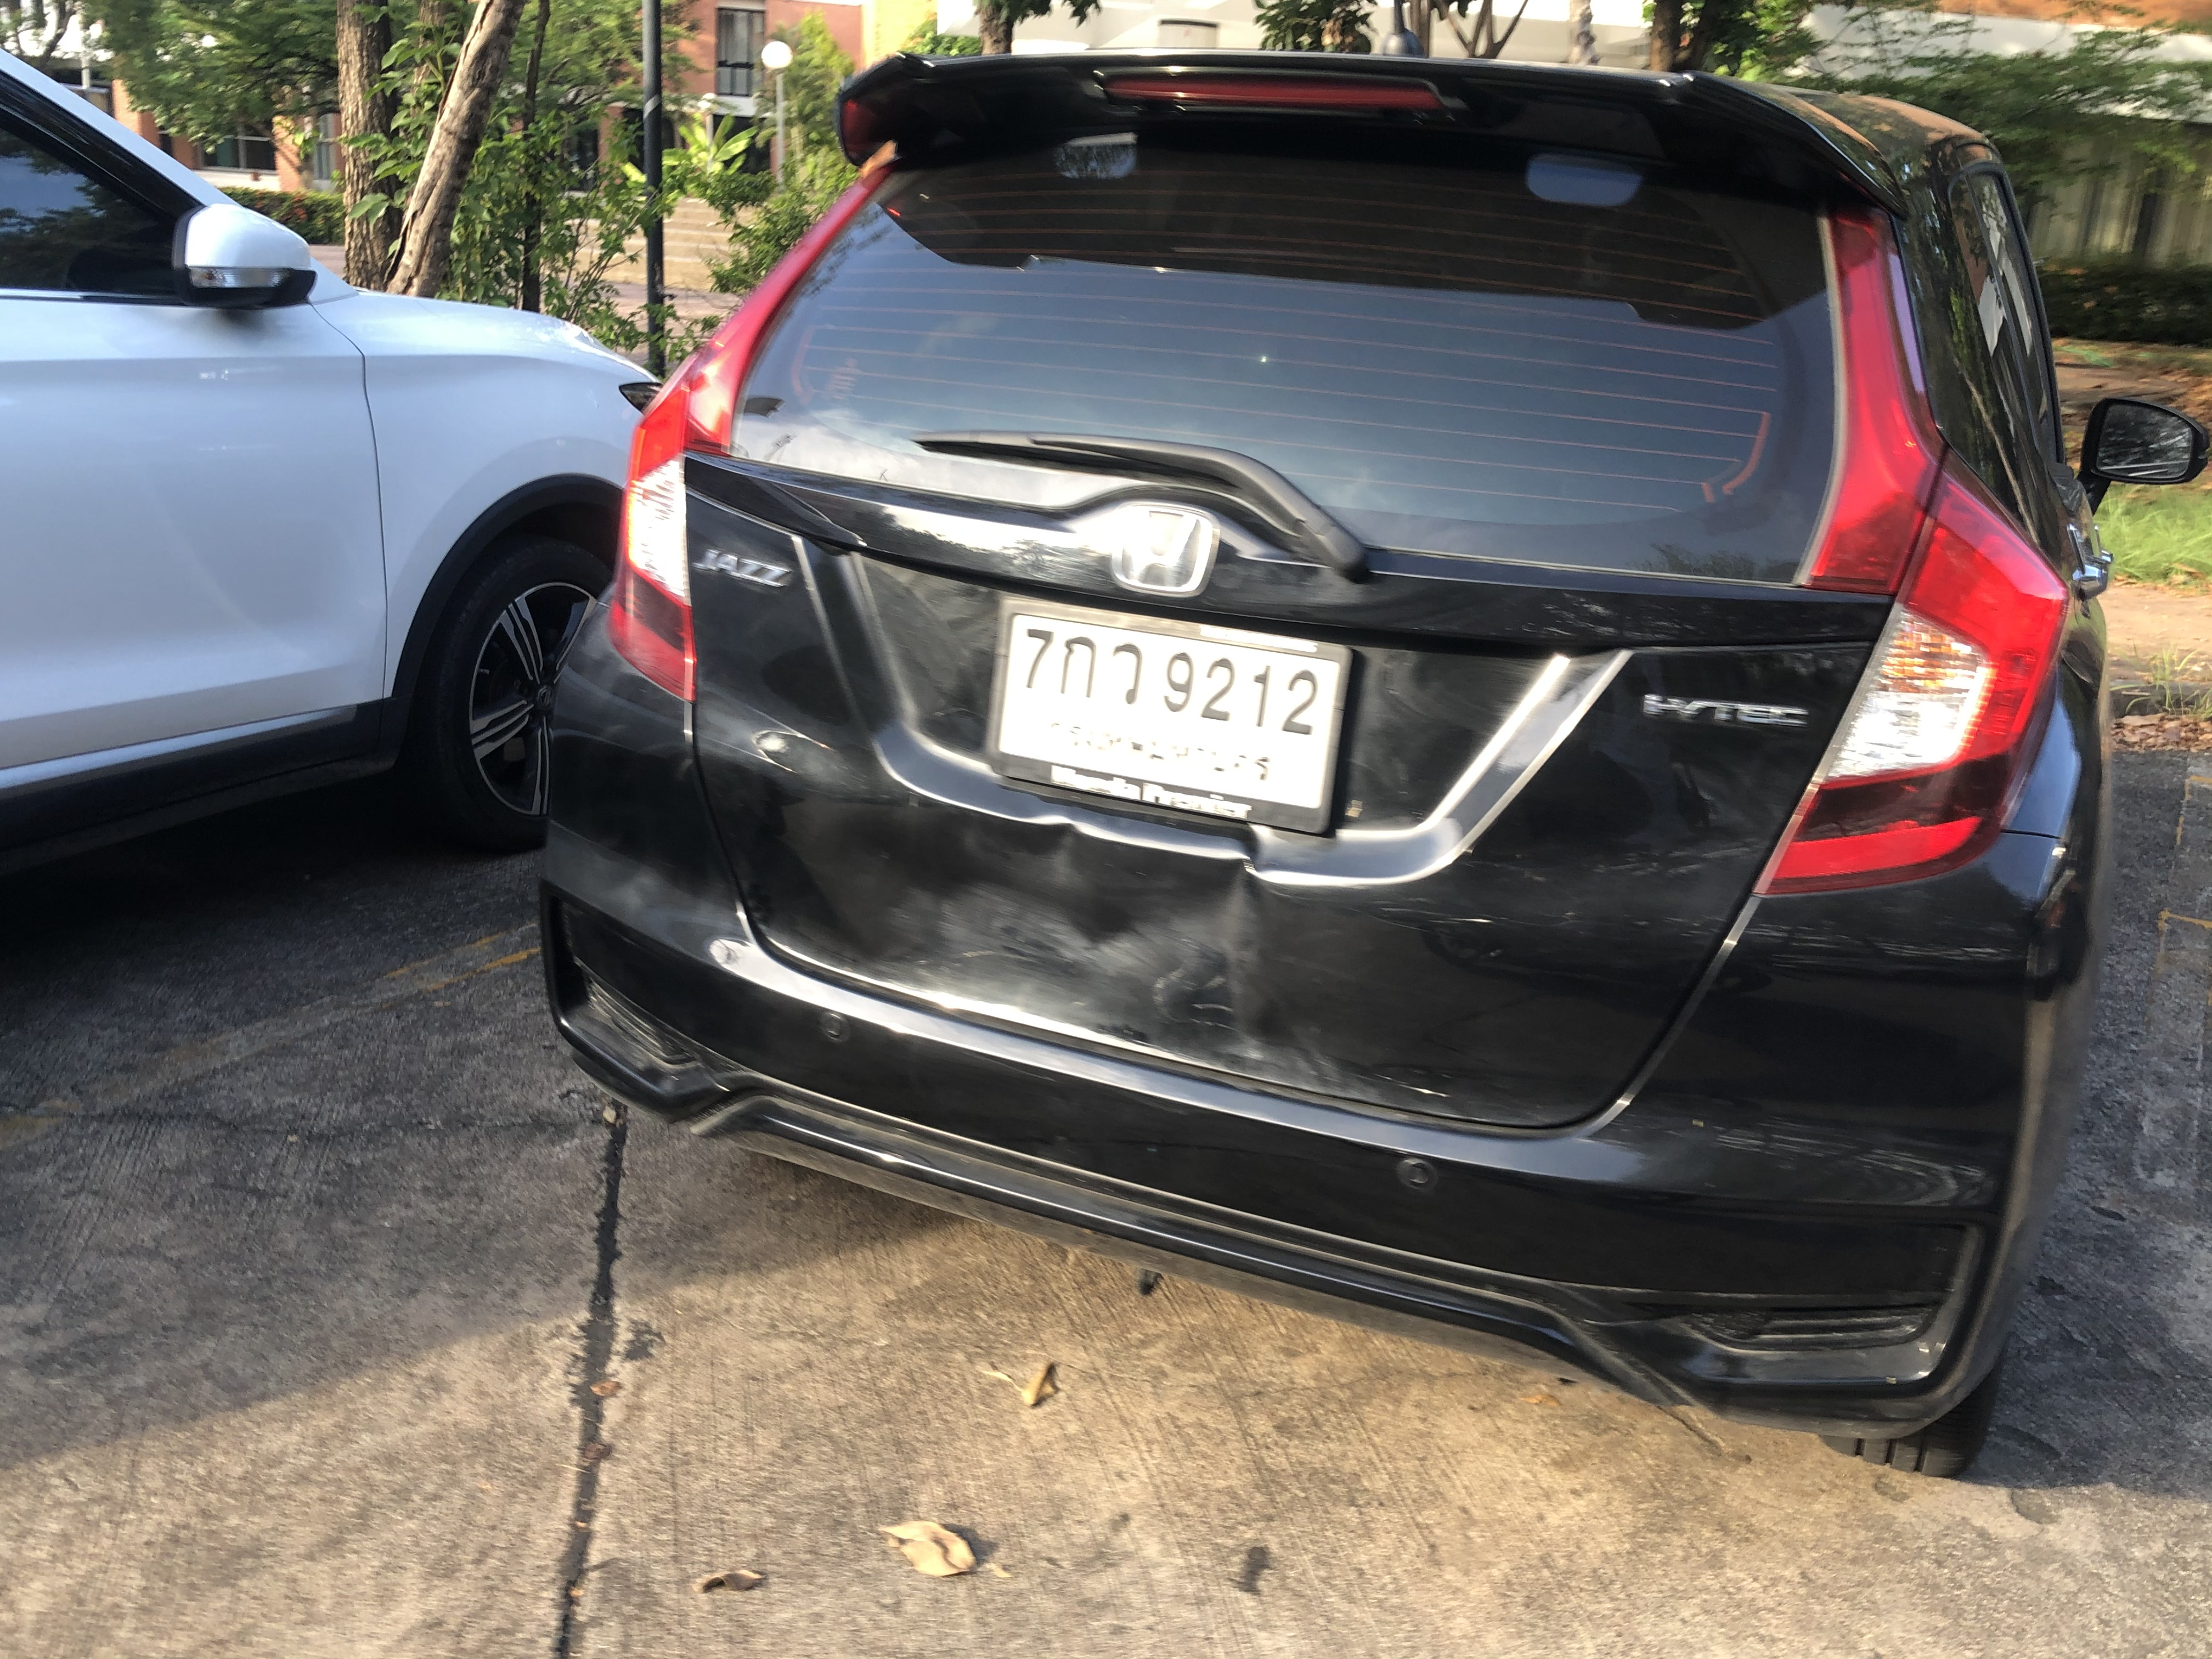in: (998, 610, 1343, 810)
out: (972, 580, 1364, 840)
